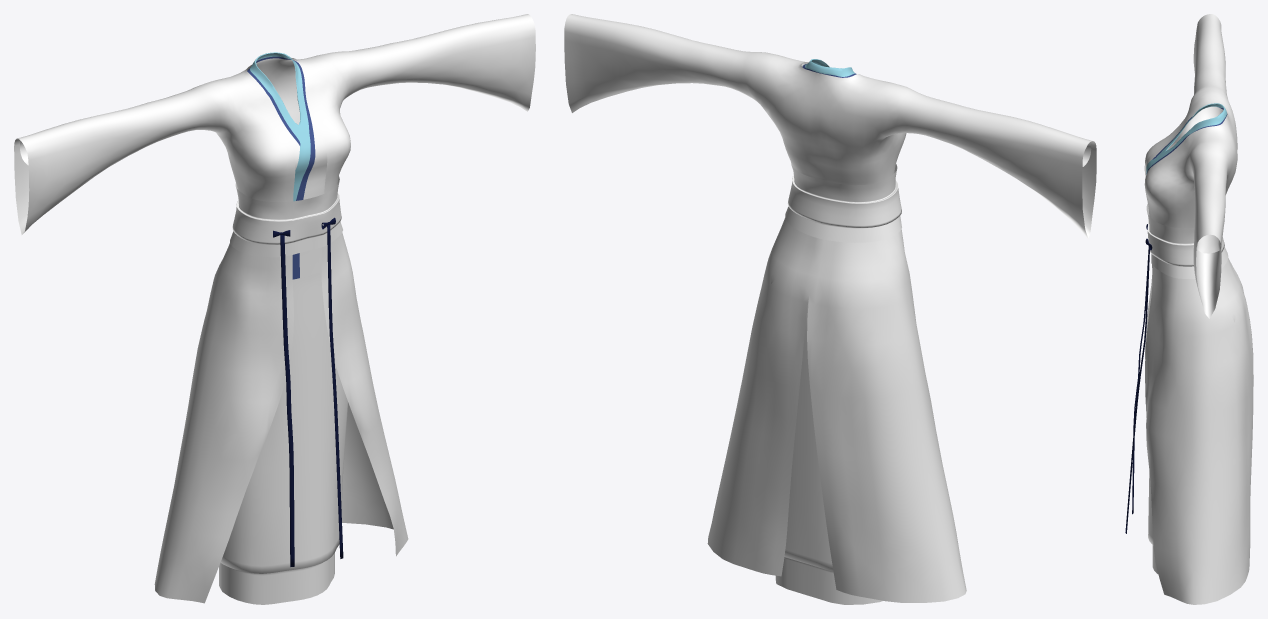
File: Cloth07.fbx
The picture shows the model from 3 angles, left to right: view 1: azimuth 30°, elevation 25°; view 2: azimuth 150°, elevation 25°; view 3: azimuth 270°, elevation 25°; orthographic projection. The views are drawn at different scales.
Visible parts, largest first — view 1: waiyi, qunzi, neiyi, yaodai, tiao; view 2: waiyi, qunzi, yaodai, neiyi; view 3: waiyi, yaodai, neiyi, tiao, qunzi.
Part boxes in pixels (x1=…): waiyi: x1=14, y1=14, x2=535, y2=603; qunzi: x1=219, y1=265, x2=348, y2=604; neiyi: x1=19, y1=35, x2=530, y2=279; yaodai: x1=230, y1=176, x2=342, y2=257; tiao: x1=273, y1=217, x2=343, y2=566; waiyi: x1=564, y1=14, x2=1096, y2=602; qunzi: x1=771, y1=274, x2=882, y2=604; yaodai: x1=785, y1=162, x2=901, y2=242; neiyi: x1=791, y1=59, x2=1091, y2=166; waiyi: x1=1144, y1=14, x2=1253, y2=604; yaodai: x1=1146, y1=203, x2=1228, y2=278; neiyi: x1=1146, y1=103, x2=1237, y2=253; tiao: x1=1125, y1=224, x2=1152, y2=533; qunzi: x1=1148, y1=314, x2=1235, y2=573.
Size of the model in its own units: 3.98 by 3.85 by 0.975.
6 materials, 3 textured.
